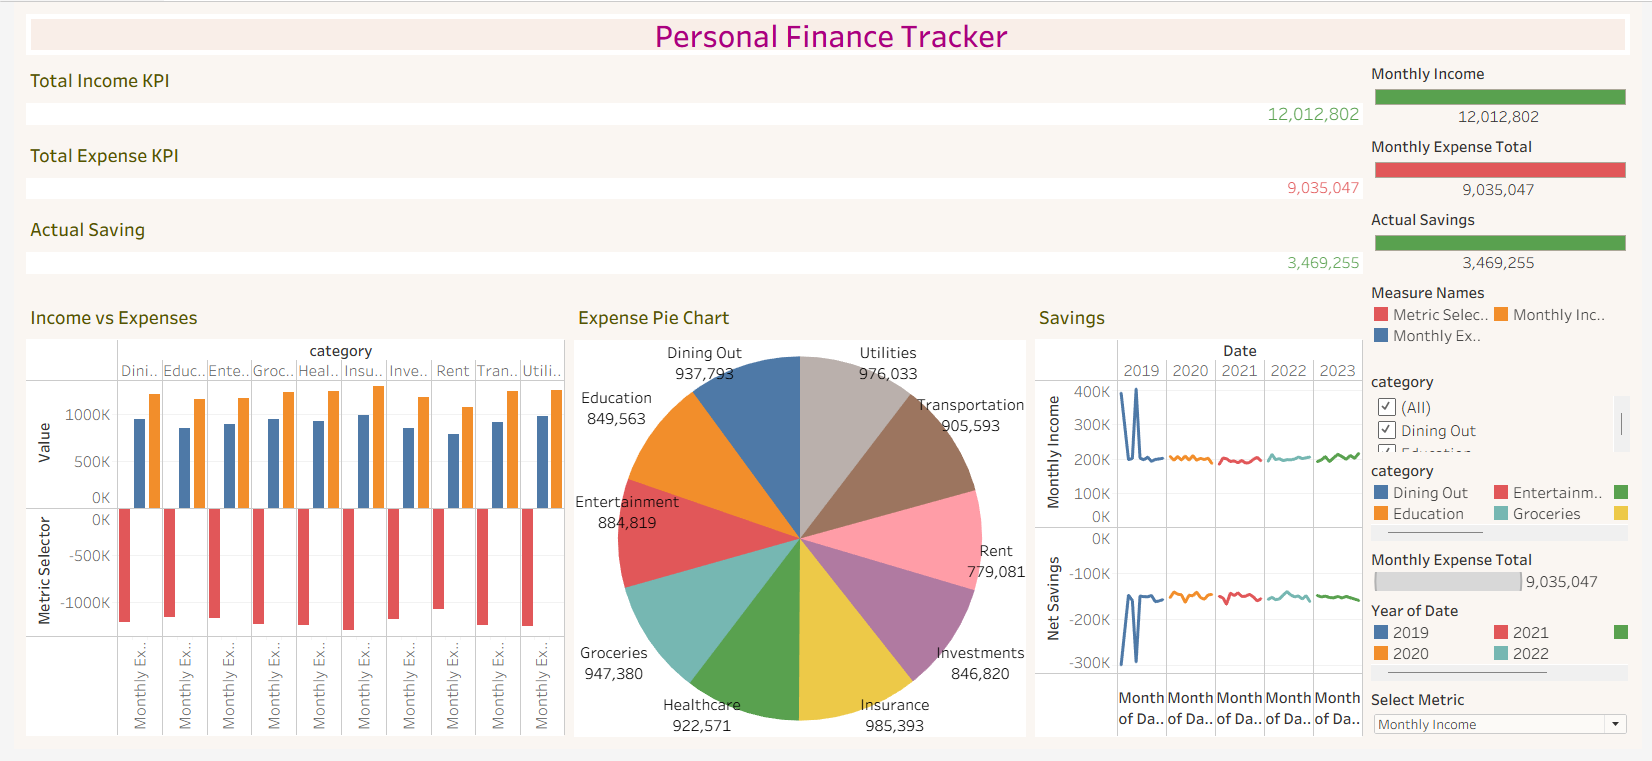

What the dashboard file says about the page in this screenshot:
{"tool":"tableau","page":{"name":" Personal Finance Tracker","canvas":[1000,1000],"units":"permille","ordinal":0},"visuals":[{"type":"title","box":[4.9,10.7,990.2,65.6]},{"type":"worksheet","title":"Total Income KPI","mark":"Automatic","box":[4.9,76.3,826.2,99.8]},{"type":"legend","title":"Total Income KPI","param":"[federated.19qrhew0q86ffl1f7tn8u0e1mkeu].[sum:monthly_income:qk]","box":[831.1,76.3,164,97.7]},{"type":"legend","title":"Total Expense KPI","param":"[federated.19qrhew0q86ffl1f7tn8u0e1mkeu].[sum:monthly_expense_total:qk]","box":[831.1,174,164,97.7]},{"type":"worksheet","title":"Total Expense KPI","mark":"Automatic","box":[4.9,176.1,826.2,99.9]},{"type":"legend","title":"Actual Saving","param":"[federated.19qrhew0q86ffl1f7tn8u0e1mkeu].[sum:actual_savings:qk]","box":[831.1,271.8,164,97.7]},{"type":"worksheet","title":"Actual Saving","mark":"Automatic","box":[4.9,276,826.2,117.3]},{"type":"legend","title":"Income vs Expenses","param":"[federated.19qrhew0q86ffl1f7tn8u0e1mkeu].[:Measure Names]","box":[831.1,369.5,164,124.5]},{"type":"worksheet","title":"Income vs Expenses","mark":"Automatic","rows":["Calculation_978970007818813444"],"cols":["category"],"box":[4.9,393.3,336.7,596]},{"type":"worksheet","title":"Expense Pie Chart","mark":"Pie","box":[341.6,393.3,282.9,596]},{"type":"worksheet","title":"Savings","mark":"Line","rows":["monthly_income","Calculation_978970007811268611"],"cols":["date","date"],"box":[624.4,393.3,206.7,596]},{"type":"legend","title":"Expense Pie Chart","param":"[federated.19qrhew0q86ffl1f7tn8u0e1mkeu].[none:category:nk]","box":[831.1,494,164,176]},{"type":"legend","title":"Expense Pie Chart","param":"[federated.19qrhew0q86ffl1f7tn8u0e1mkeu].[sum:monthly_expense_total:qk]","box":[831.1,670,164,68.3]},{"type":"legend","title":"Savings","param":"[federated.19qrhew0q86ffl1f7tn8u0e1mkeu].[yr:date:ok]","box":[831.1,738.3,164,176]},{"type":"parameter","param":"[Parameters].[Parameter 2]","box":[831.1,914.3,164,75]}]}

Visuals, with their boxes on the dashboard's canvas, which has no fixed pixel size, in thousandths of its width and height (x1, y1, x2, y2). These are canvas units, not pixel positions in the 1652x761 screenshot, which may show the page scaled, cropped or inside an application window:
title: select_region(5, 11, 995, 76)
"Total Income KPI" worksheet: select_region(5, 76, 831, 176)
"Total Income KPI" legend: select_region(831, 76, 995, 174)
"Total Expense KPI" legend: select_region(831, 174, 995, 272)
"Total Expense KPI" worksheet: select_region(5, 176, 831, 276)
"Actual Saving" legend: select_region(831, 272, 995, 370)
"Actual Saving" worksheet: select_region(5, 276, 831, 393)
"Income vs Expenses" legend: select_region(831, 370, 995, 494)
"Income vs Expenses" worksheet: select_region(5, 393, 342, 989)
"Expense Pie Chart" worksheet (Pie marks): select_region(342, 393, 624, 989)
"Savings" worksheet (Line marks): select_region(624, 393, 831, 989)
"Expense Pie Chart" legend: select_region(831, 494, 995, 670)
"Expense Pie Chart" legend: select_region(831, 670, 995, 738)
"Savings" legend: select_region(831, 738, 995, 914)
parameter: select_region(831, 914, 995, 989)
